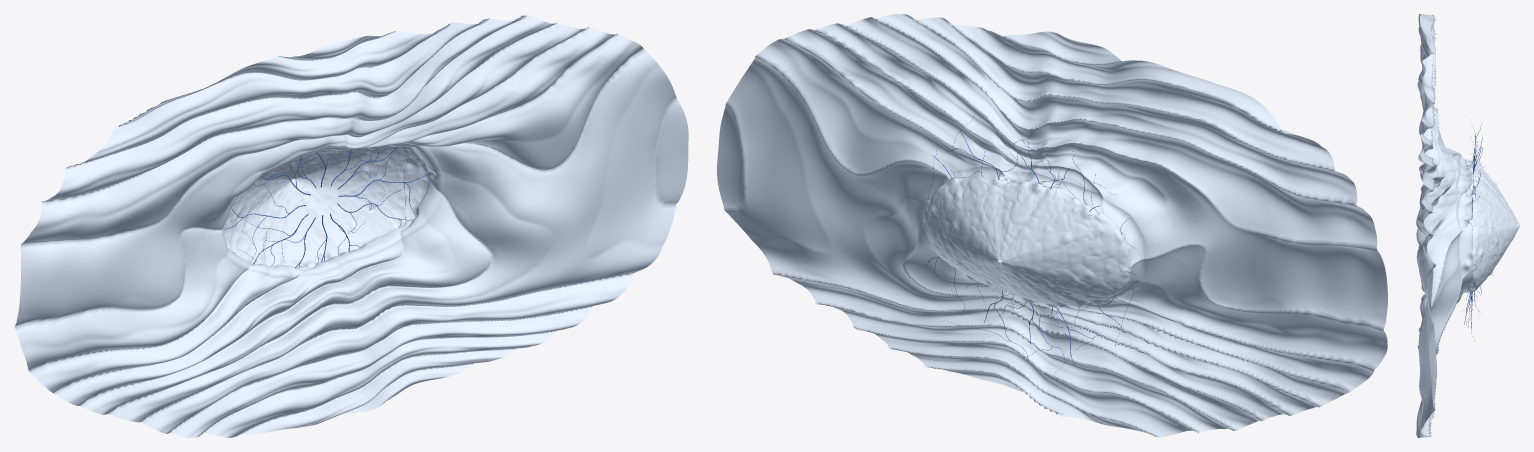
File: background-home.glb
The picture shows the model from 3 angles, left to right: view 1: azimuth 30°, elevation 25°; view 2: azimuth 150°, elevation 25°; view 3: azimuth 270°, elevation 25°; orthographic projection. The views are drawn at different scales.
Parts seen in each view (by area): view 1: Accueil | Parois organiques, Accueil | Veines bleues; view 2: Accueil | Parois organiques, Accueil | Veines bleues; view 3: Accueil | Parois organiques, Accueil | Veines bleues.
Part boxes in pixels (box(x1,y1,x2,y2)): Accueil | Parois organiques: box(14, 14, 688, 437); Accueil | Veines bleues: box(222, 147, 433, 267); Accueil | Parois organiques: box(717, 14, 1387, 437); Accueil | Veines bleues: box(918, 108, 1148, 372); Accueil | Parois organiques: box(1416, 14, 1519, 437); Accueil | Veines bleues: box(1464, 122, 1498, 341).
Size of the model in its own units: 6.03 by 3.25 by 0.9967.
